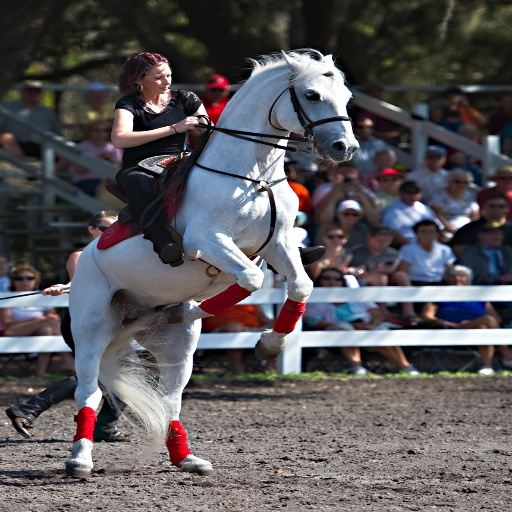hand: (344, 177, 364, 203), (174, 113, 198, 132), (195, 116, 212, 133), (41, 284, 64, 296), (332, 183, 346, 200)
